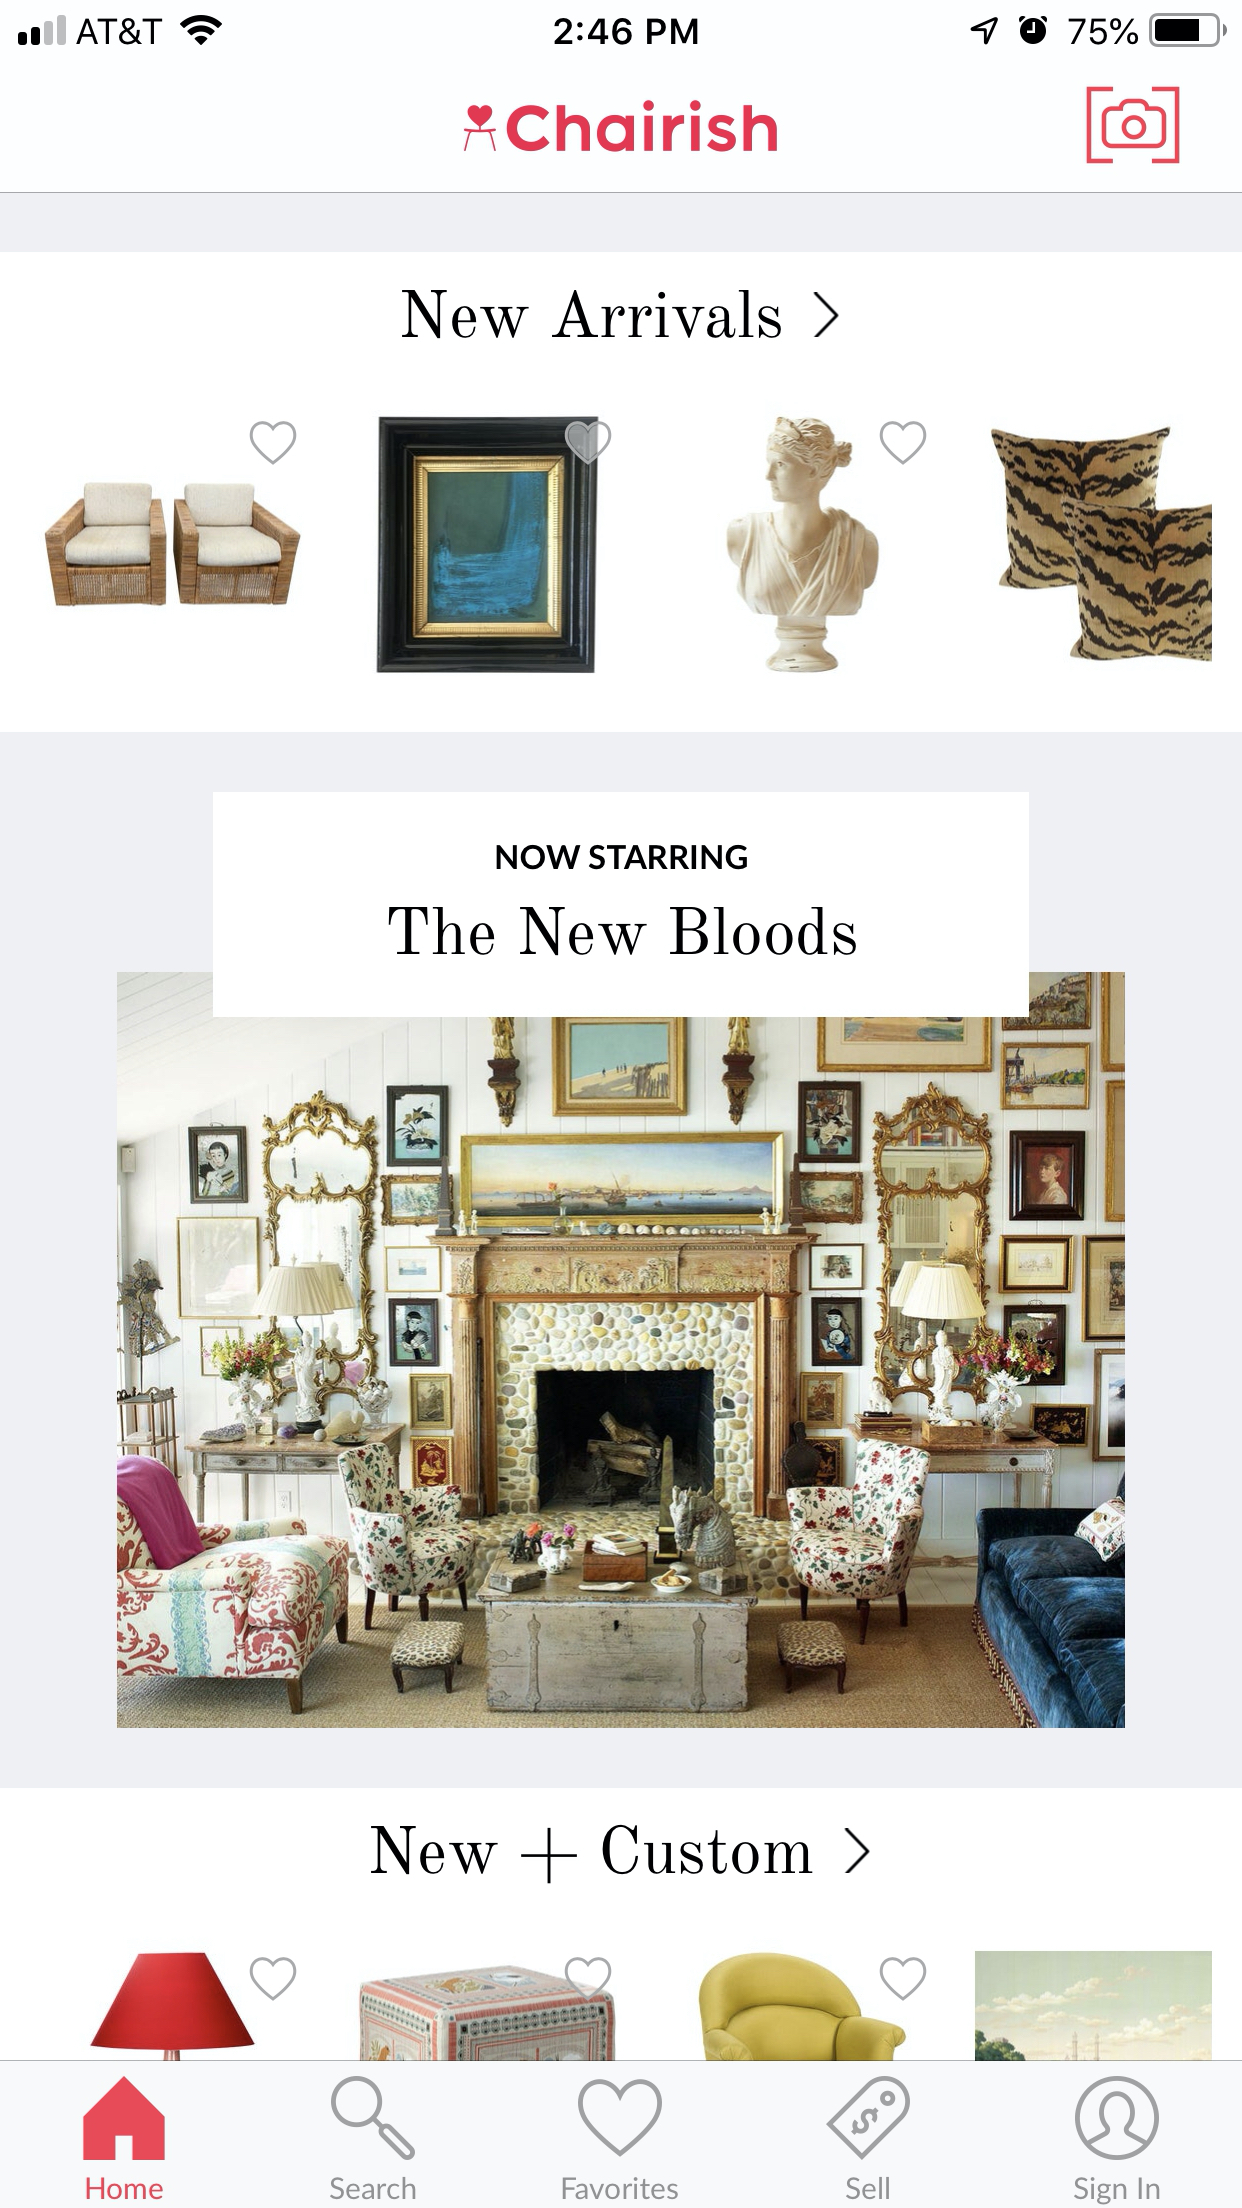Icon: (1086, 86, 1180, 165), (331, 2076, 417, 2161), (1074, 2075, 1160, 2159), (826, 2075, 911, 2159), (83, 2076, 167, 2161), (578, 2078, 664, 2156), (250, 1956, 299, 2002), (250, 422, 299, 467), (880, 1956, 927, 2002), (880, 422, 928, 466), (566, 1956, 613, 2000), (566, 422, 613, 466), (814, 293, 840, 340), (845, 1827, 870, 1873)
Image: (117, 974, 1125, 1729), (379, 416, 599, 673), (990, 428, 1212, 663), (726, 417, 880, 673), (44, 482, 302, 607), (977, 1952, 1212, 2061), (359, 1965, 616, 2061), (699, 1952, 905, 2059), (91, 1952, 255, 2059), (466, 106, 497, 152)
Text: (372, 1826, 813, 1885), (390, 907, 857, 955), (402, 290, 783, 340), (507, 102, 778, 153), (494, 845, 748, 870), (563, 2176, 679, 2200), (1074, 2176, 1160, 2205), (331, 2175, 417, 2200), (85, 2176, 164, 2200), (846, 2176, 892, 2200)
UpperTaskBar: (2, 2, 1242, 49)
